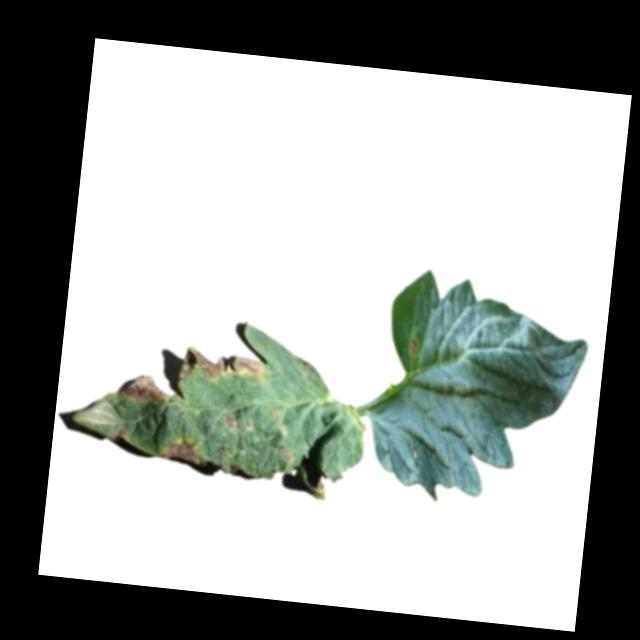Early_blight: (178, 344, 266, 384), (116, 372, 173, 408), (159, 435, 207, 466), (220, 412, 236, 431), (405, 336, 420, 355), (115, 425, 128, 441)
